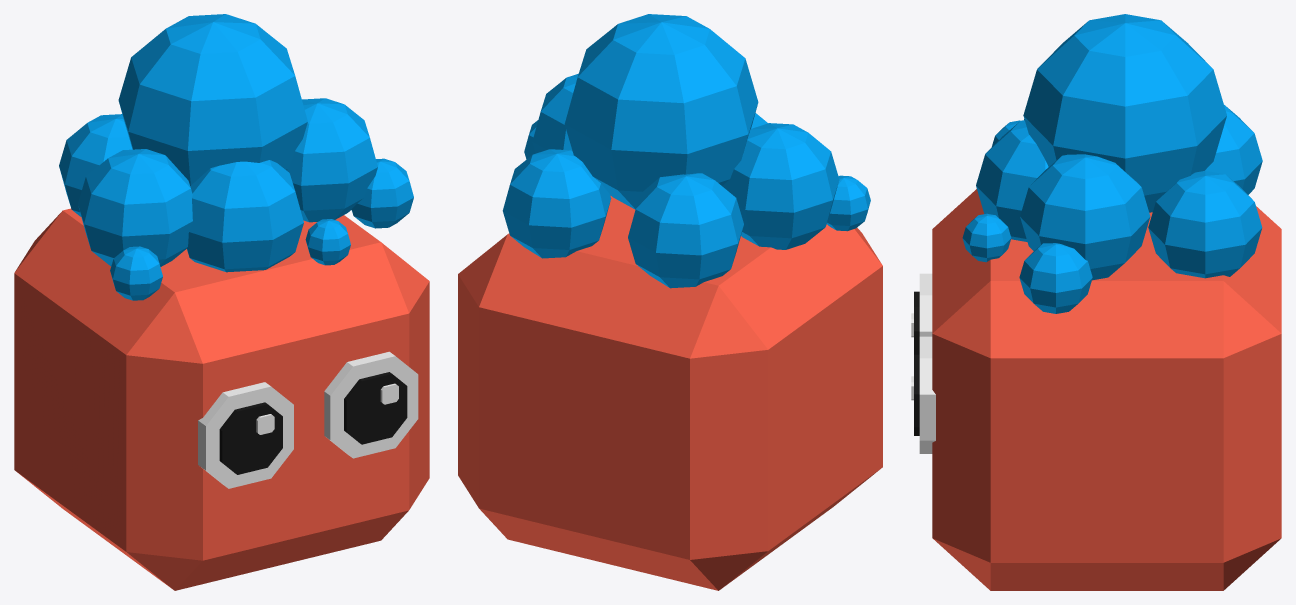
The model's file is Bubbly.fbx.
3 views of the same model, side by side, from view 1: azimuth 30°, elevation 25°; view 2: azimuth 150°, elevation 25°; view 3: azimuth 270°, elevation 25° (orthographic). The views are drawn at different scales.
Parts seen in each view (by area): view 1: Bubbly, Bubbly_Bubbles, Bubbly_Eyes, Bubbly_Pupils; view 2: Bubbly, Bubbly_Bubbles; view 3: Bubbly, Bubbly_Bubbles, Bubbly_Eyes, Bubbly_Pupils.
Boxes of the visible parts, x1,y1,x2,y2 form: Bubbly: (14,208,429,590); Bubbly_Bubbles: (59,14,413,300); Bubbly_Eyes: (198,351,418,488); Bubbly_Pupils: (219,372,407,474); Bubbly: (458,195,882,590); Bubbly_Bubbles: (502,14,870,288); Bubbly: (932,189,1281,590); Bubbly_Bubbles: (962,14,1262,313); Bubbly_Eyes: (911,273,935,453); Bubbly_Pupils: (914,291,919,435).
Bounding box in the file's own units: 2.08 × 3.13 × 2.04.
